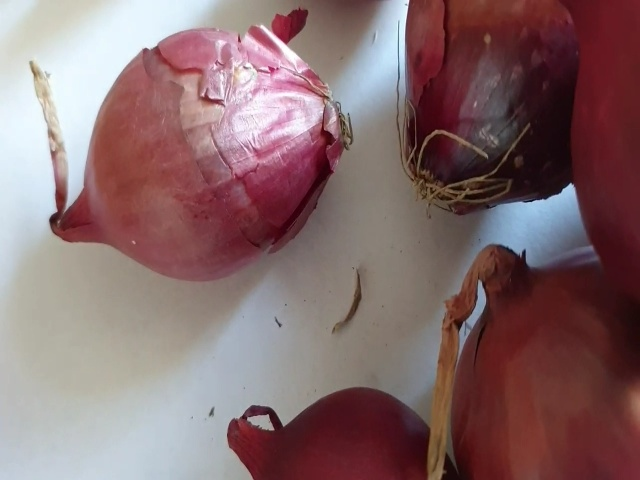red_onion: (15, 13, 358, 286), (429, 244, 639, 476), (395, 2, 567, 212), (221, 382, 431, 480)
